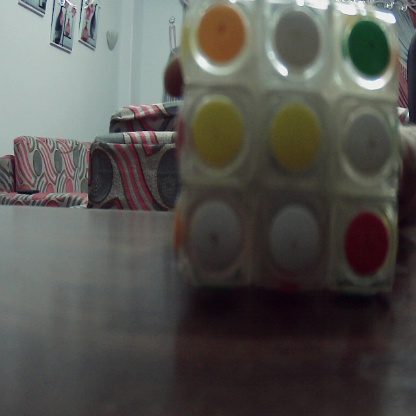Rubix Cube: (180, 3, 396, 294)
